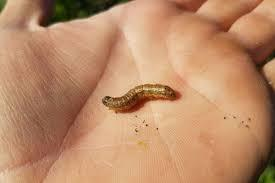fallarmy_worm: (100, 80, 185, 115)
